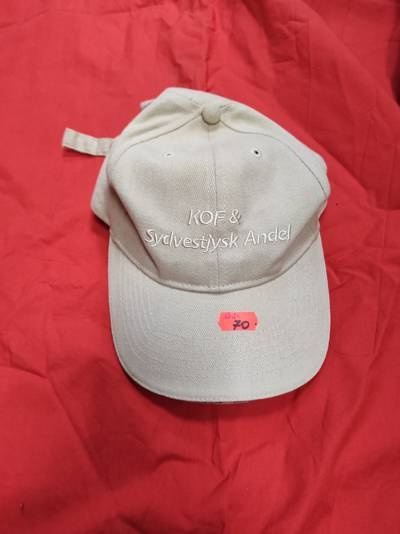Hat: (49, 82, 355, 414)
